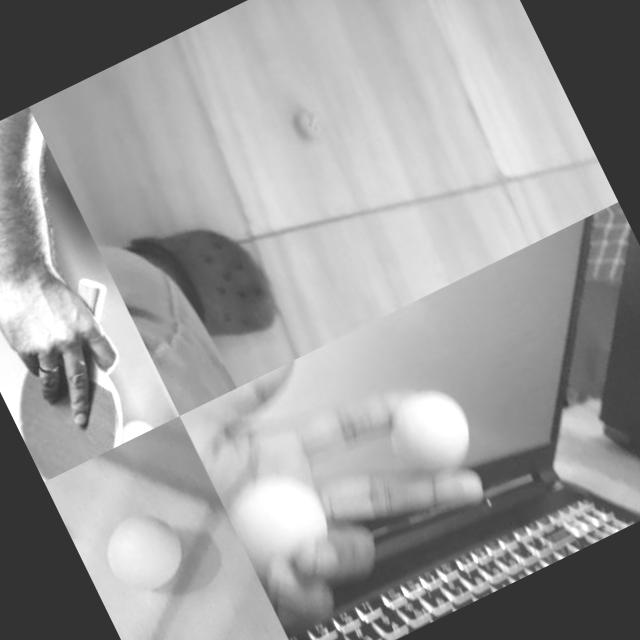ping-pong-ball: (220, 458, 342, 584), (377, 381, 483, 490), (90, 499, 193, 604), (290, 101, 324, 141), (114, 414, 152, 444)
